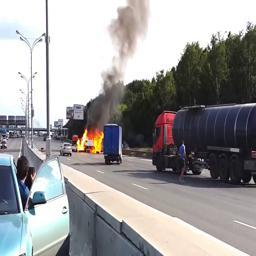fire: (77, 128, 103, 152)
